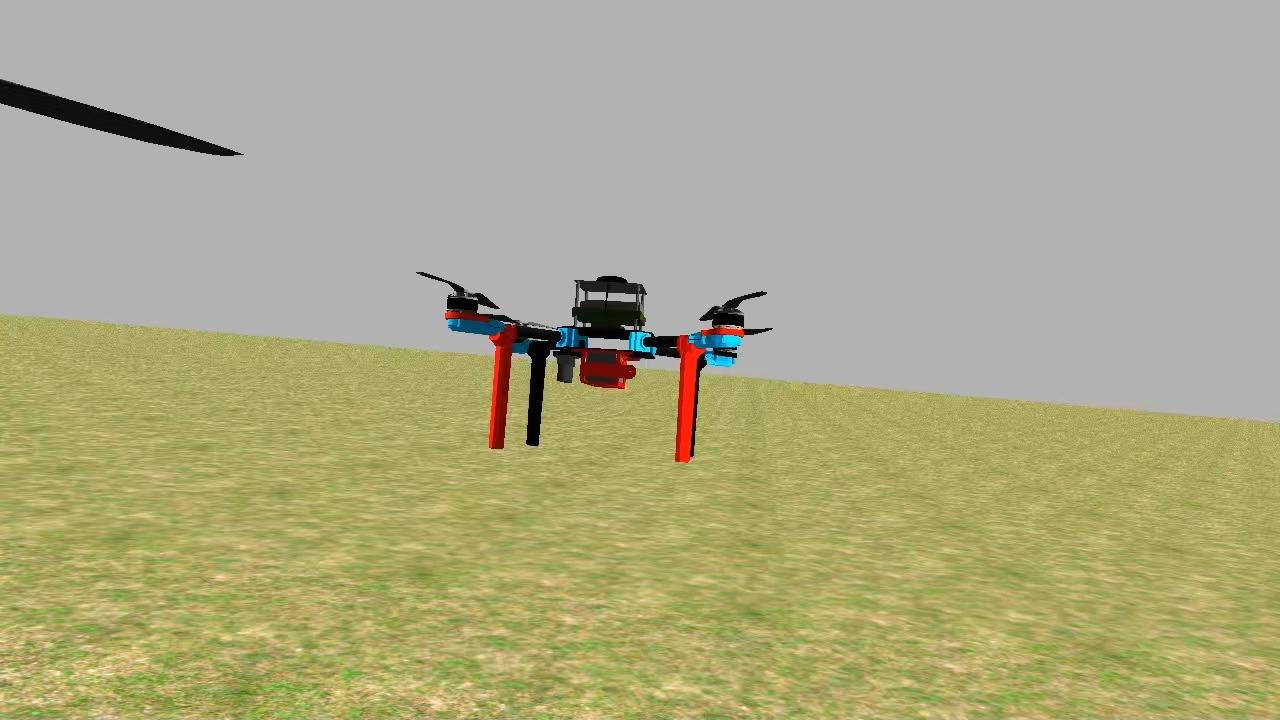UAV: (442, 265, 758, 477)
